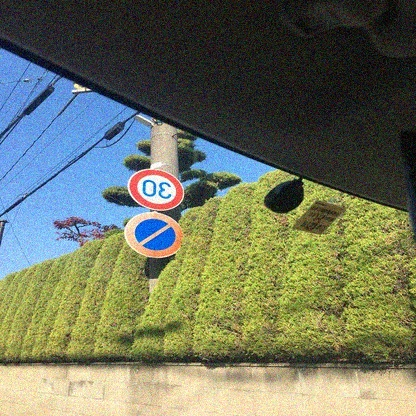Prohibition_sign: (124, 215, 195, 268)
Speed_sign: (127, 165, 188, 212)
